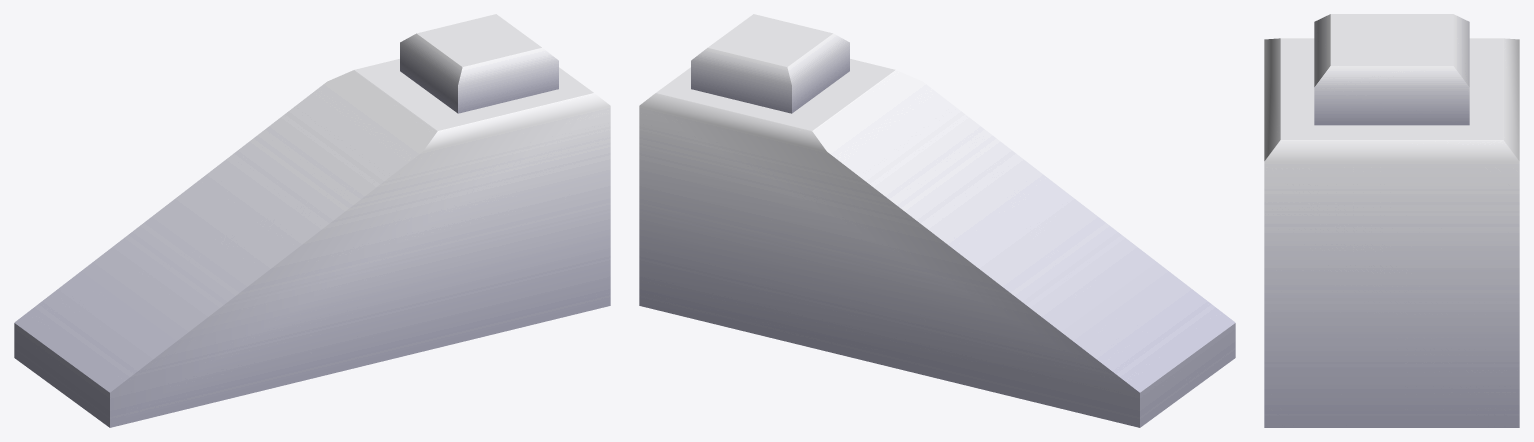
The model's file is square_hq_brick_slope_3x1.glb.
3 views of the same model, side by side, from view 1: azimuth 30°, elevation 25°; view 2: azimuth 150°, elevation 25°; view 3: azimuth 270°, elevation 25° (orthographic). The views are drawn at different scales.
Parts seen in each view (by area): view 1: square-hq-brick-slope-3x1; view 2: square-hq-brick-slope-3x1; view 3: square-hq-brick-slope-3x1.
Boxes of the visible parts, box(x1,y1,x2,y2) form: square-hq-brick-slope-3x1: box(14, 14, 610, 427); square-hq-brick-slope-3x1: box(639, 14, 1235, 427); square-hq-brick-slope-3x1: box(1264, 14, 1519, 427).
Size of the model in its own units: 0.2385 by 0.114 by 0.079.
Materials: 1 (1 with a texture image).
